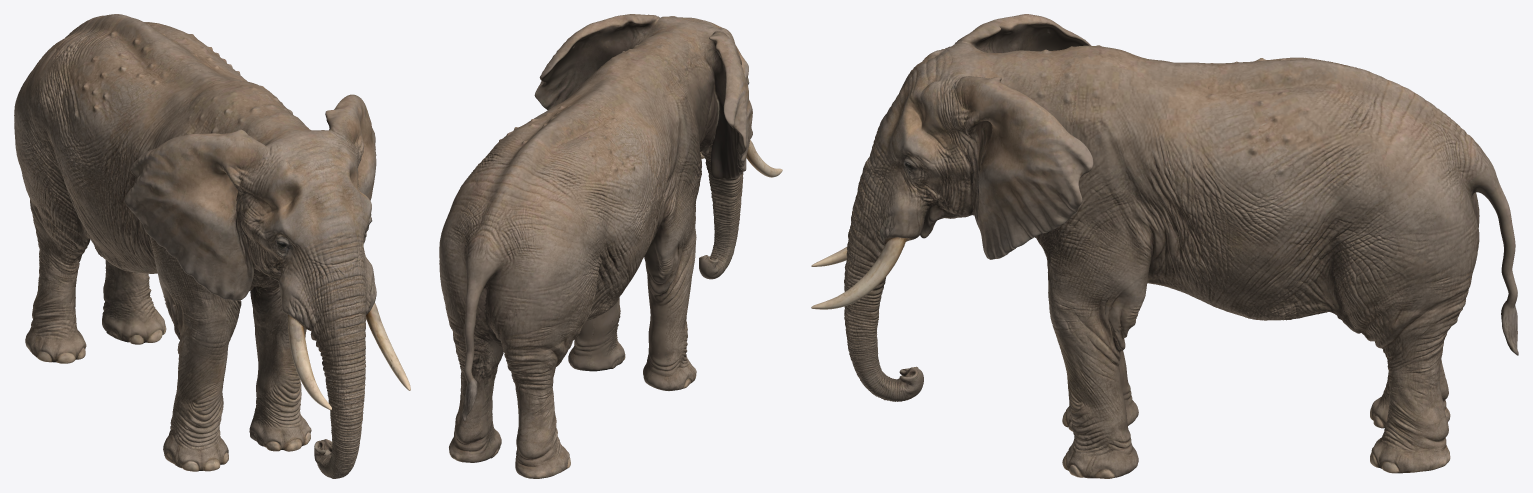
Rendered from elephant.glb.
3 renders of one model, left to right at view 1: azimuth 30°, elevation 25°; view 2: azimuth 150°, elevation 25°; view 3: azimuth 270°, elevation 25°, orthographic. The views are drawn at different scales.
Visible parts, largest first — view 1: elephant; view 2: elephant; view 3: elephant.
Part boxes in pixels (left/top/right/bottom): elephant: left=14, top=14, right=410, bottom=478; elephant: left=439, top=14, right=782, bottom=478; elephant: left=811, top=14, right=1518, bottom=478.
Bounding box in the file's own units: 2.37 × 3.39 × 5.5.
Materials: 1 (1 with a texture image).
